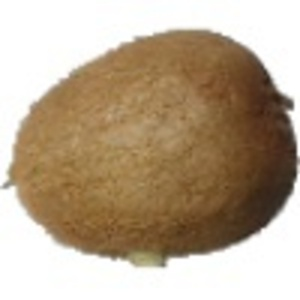kiwi: (5, 27, 300, 271)
